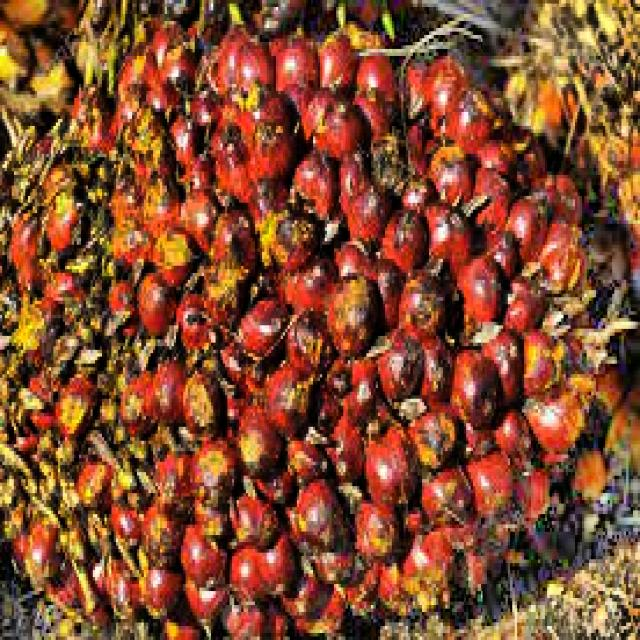FFB: (0, 10, 637, 640)
